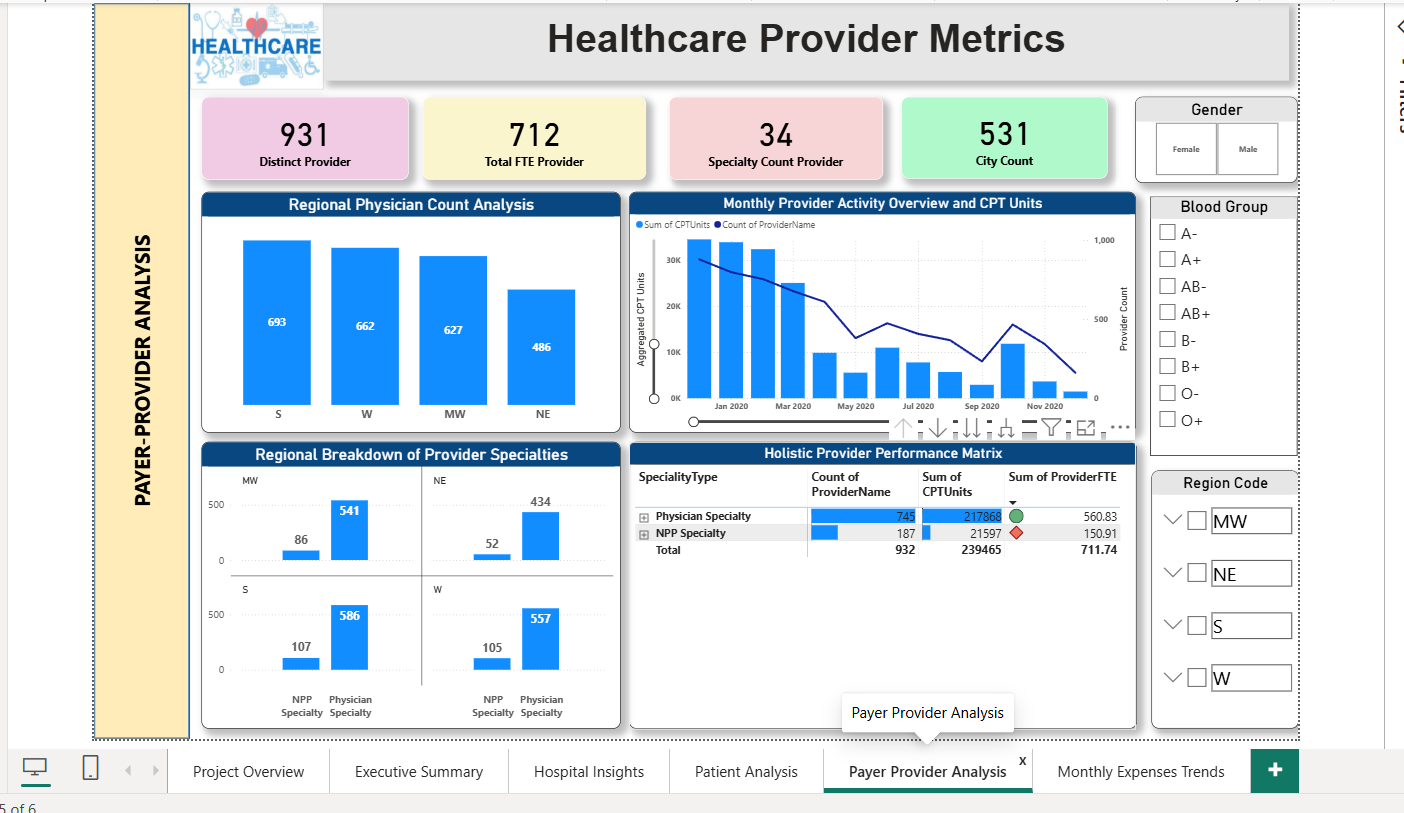

The page's visual inventory and layout, read from the dashboard file:
{"tool":"powerbi","page":{"name":"Payer Provider Analysis","canvas":[1800,1100],"ordinal":4},"visuals":[{"type":"image","box":[144.2,0,199.5,129.1],"z":0},{"type":"textbox","box":[344,0,1442,116],"z":1000},{"type":"shape","box":[0,0,142.9,1100],"z":2000},{"type":"card","fields":{"Values":["Count(DimPhysician.ProviderName)"]},"box":[160.1,139.4,309.9,123.9],"z":3000},{"type":"card","fields":{"Values":["Sum(DimPhysician.ProviderFTE)"]},"box":[490.6,139.4,334,123.9],"z":4000},{"type":"card","fields":{"Values":["Count(DimSpeciality.ProviderSpecialty)"]},"box":[859,139.4,320.2,123.9],"z":5000},{"type":"card","fields":{"Values":["Count(DimPatient.City)"]},"box":[1206.7,139.4,308.1,122.2],"z":6000},{"type":"slicer","title":"Gender","fields":{"Values":["DimPatient.PatientGender"]},"box":[1556.2,139.4,242.7,129.1],"z":7000},{"type":"columnChart","title":"Regional Physician Count Analysis","fields":{"Y":["CountNonNull(DimPhysician.dimPhysicianPK)"],"Category":["DimPatient.RegionCode"]},"box":[160,282,626,360],"z":8000},{"type":"lineStackedColumnComboChart","title":"Monthly Provider Activity Overview and CPT Units","fields":{"Category":["DimDate.Start of Month"],"Y":["Sum(FactTable.CPTUnits)"],"Y2":["Count(DimPhysician.ProviderName)"]},"box":[799.4,281.6,757.6,359.7],"z":9000},{"type":"slicer","title":"Blood Group","fields":{"Values":["DimPatient.BloodGroup"]},"box":[1578.9,288.9,219.8,387],"z":10000},{"type":"columnChart","title":"Regional Breakdown of Provider Specialties","fields":{"Category":["DimSpeciality.SpecialityType"],"Rows":["DimPatient.RegionCode"],"Y":["CountNonNull(DimPhysician.ProviderName)"]},"box":[160.1,655.9,626.6,428.6],"z":11000},{"type":"slicer","title":"Region Code","fields":{"Values":["DimPatient.RegionCode","DimPatient.Region"]},"box":[1579.7,698.9,220.3,385.6],"z":12000},{"type":"pivotTable","title":"Holistic Provider Performance Matrix","fields":{"Rows":["DimSpeciality.SpecialityType","DimSpeciality.ProviderSpecialty"],"Values":["CountNonNull(DimPhysician.ProviderName)","Sum(FactTable.CPTUnits)","Sum(DimPhysician.ProviderFTE)"]},"box":[798.7,655.9,759.2,428.6],"z":13000}]}

Visuals, with their boxes on the page's 1800x1100 design canvas (x1, y1, x2, y2). These are canvas units, not pixel positions in the 1404x813 screenshot, which may show the page scaled, cropped or inside an application window:
image: 144:0:344:129
textbox: 344:0:1786:116
shape: 0:0:143:1100
card - Count(DimPhysician.ProviderName): 160:139:470:263
card - Sum(DimPhysician.ProviderFTE): 491:139:825:263
card - Count(DimSpeciality.ProviderSpecialty): 859:139:1179:263
card - Count(DimPatient.City): 1207:139:1515:262
"Gender" slicer: 1556:139:1799:268
"Regional Physician Count Analysis" columnChart: 160:282:786:642
"Monthly Provider Activity Overview and CPT Units" lineStackedColumnComboChart: 799:282:1557:641
"Blood Group" slicer: 1579:289:1799:676
"Regional Breakdown of Provider Specialties" columnChart: 160:656:787:1084
"Region Code" slicer: 1580:699:1800:1084
"Holistic Provider Performance Matrix" pivotTable: 799:656:1558:1084
